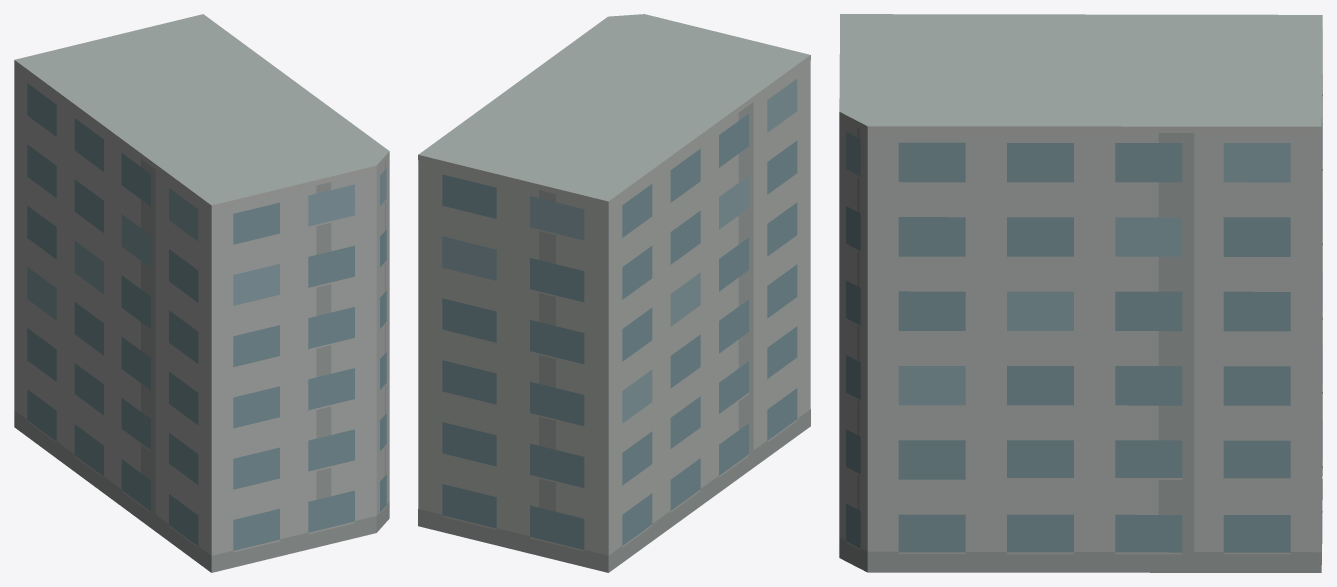
File: survey-upis-33011130.glb
The picture shows the model from 3 angles, left to right: view 1: azimuth 30°, elevation 25°; view 2: azimuth 150°, elevation 25°; view 3: azimuth 270°, elevation 25°; orthographic projection. The views are drawn at different scales.
Visible parts, largest first — view 1: survey-upis-33011130.tmp; view 2: survey-upis-33011130.tmp; view 3: survey-upis-33011130.tmp.
Boxes of the visible parts, x1,y1,x2,y2 form: survey-upis-33011130.tmp: (14,14,389,572); survey-upis-33011130.tmp: (418,14,810,572); survey-upis-33011130.tmp: (839,14,1322,572).
Bounding box in the file's own units: 9.01 × 16.6 × 16.31.
